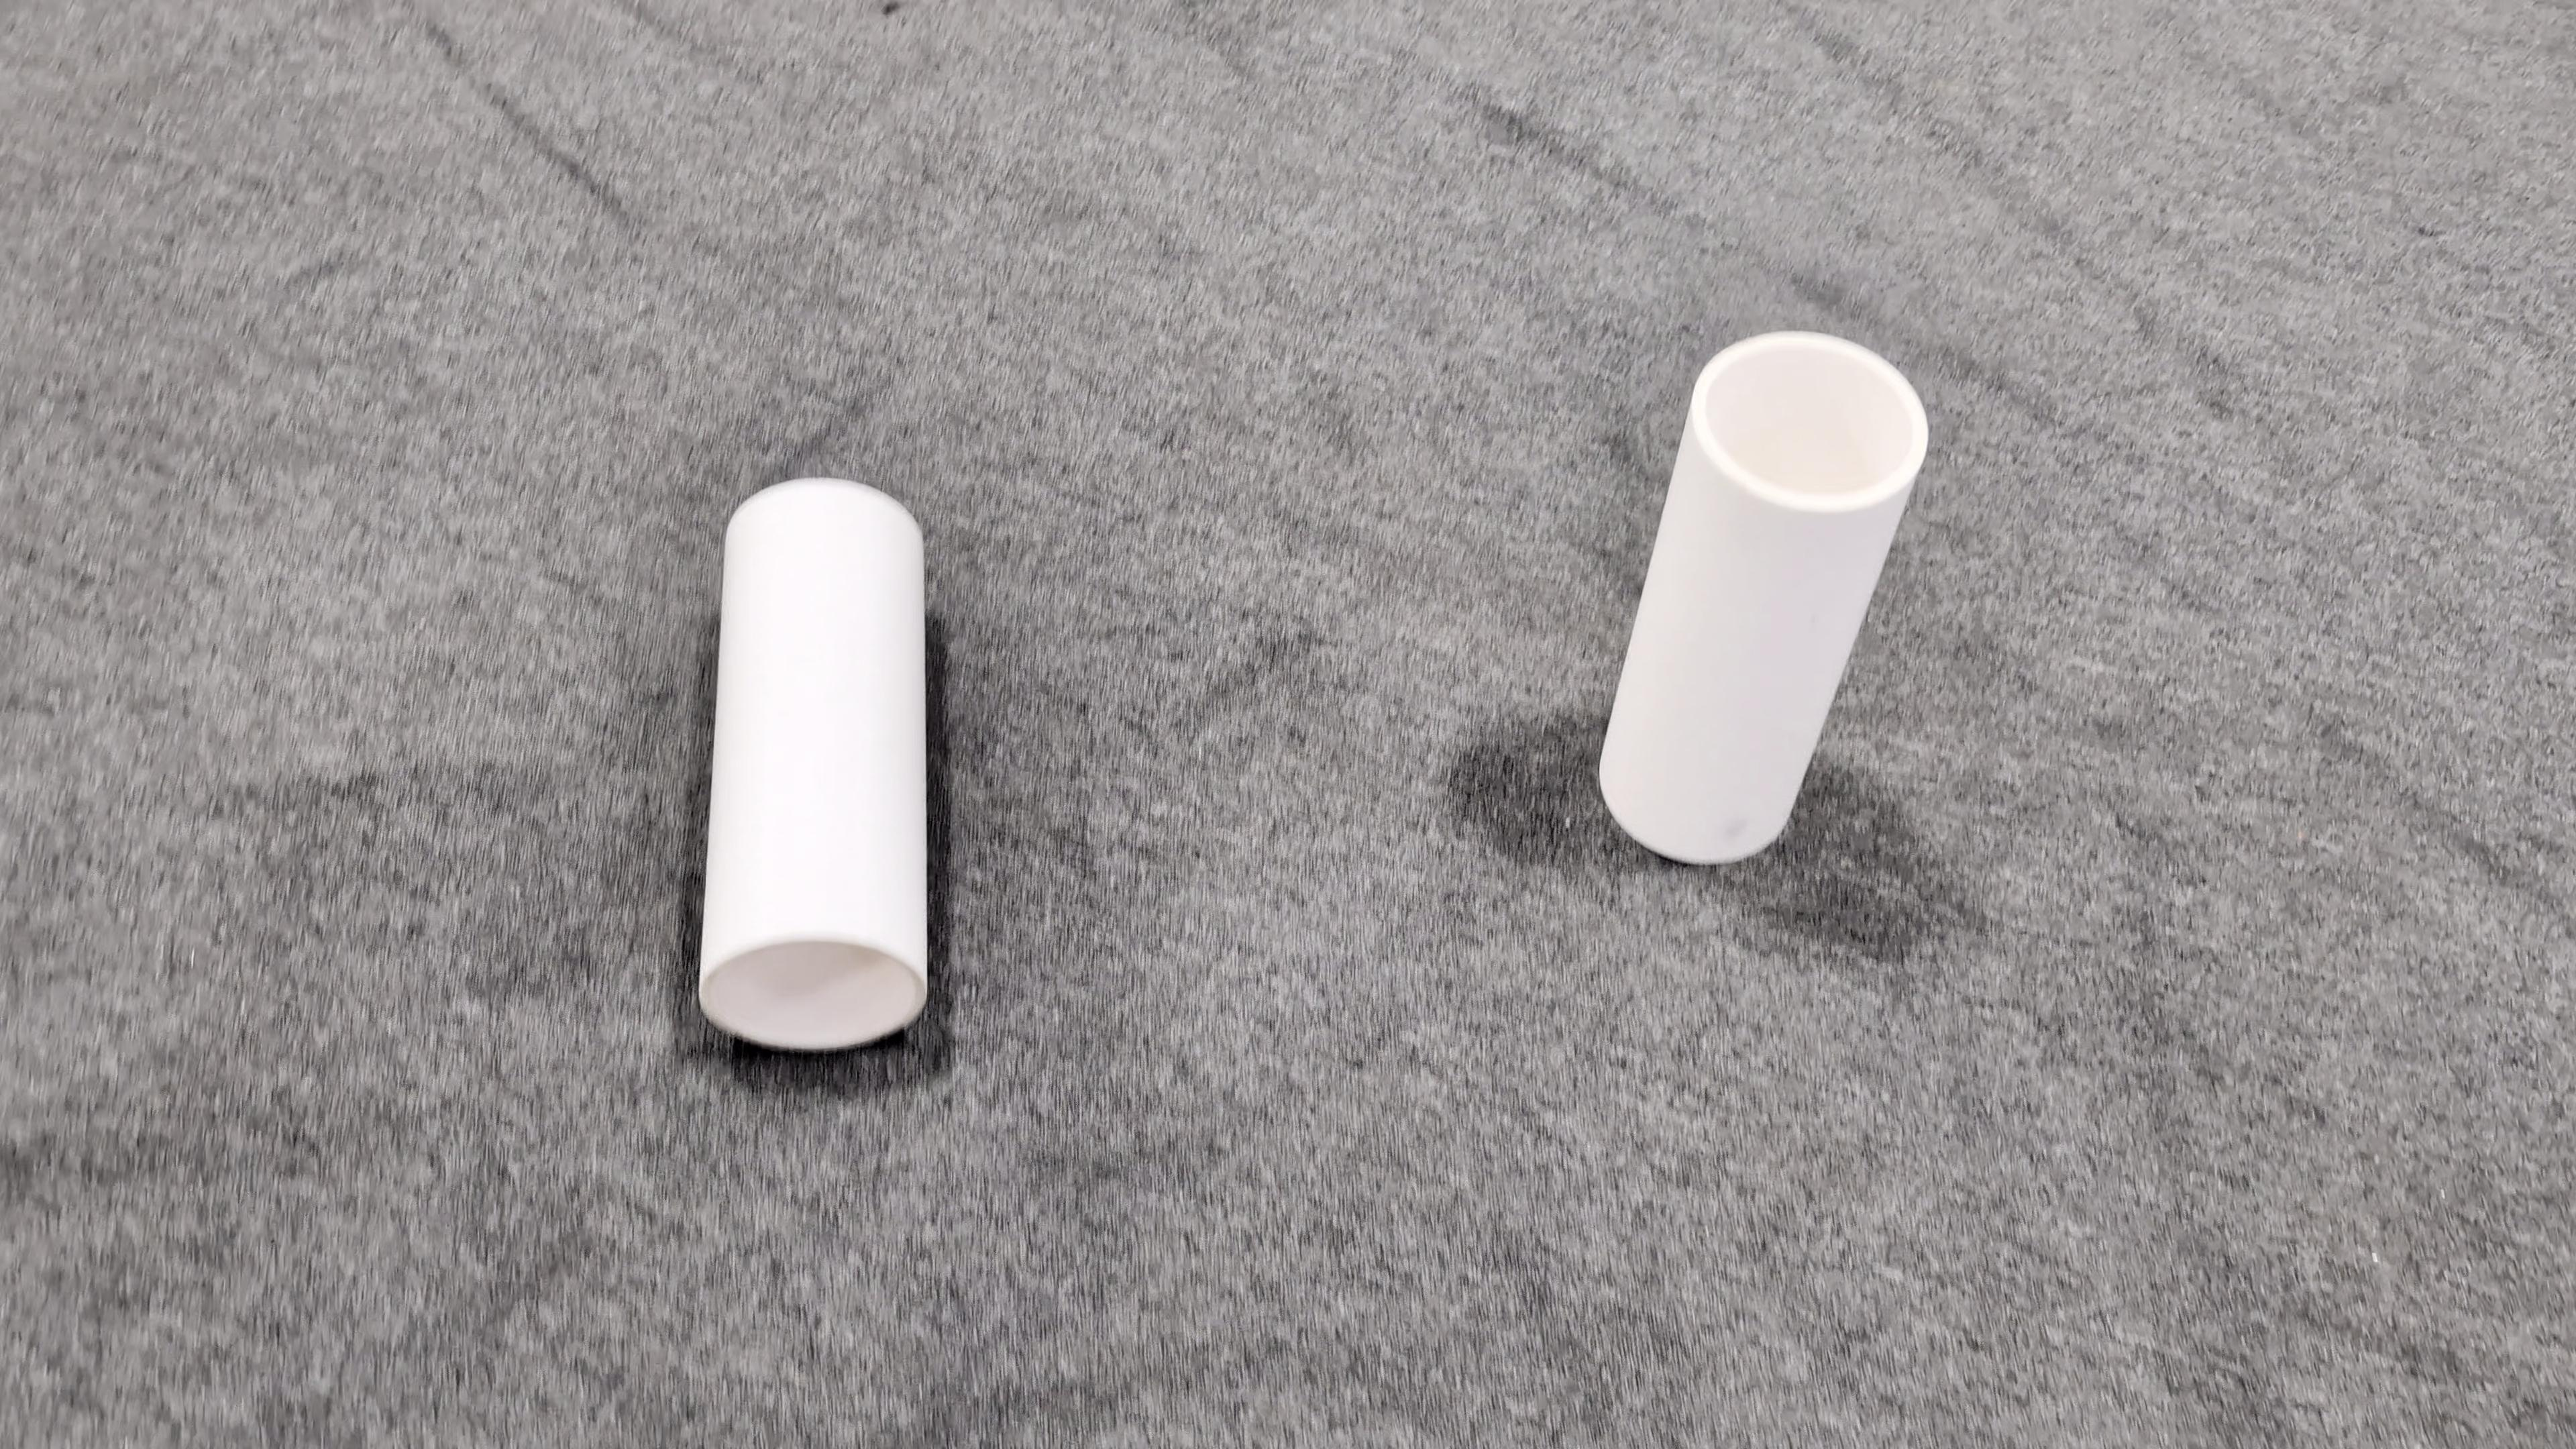coral: (1592, 331, 1928, 863), (694, 476, 932, 1049)
